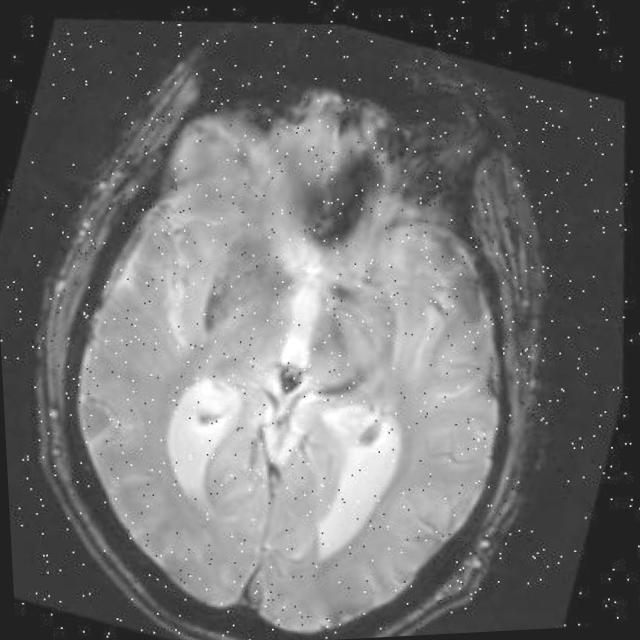EMCI: (170, 214, 300, 340), (296, 134, 394, 256), (417, 242, 499, 332)
